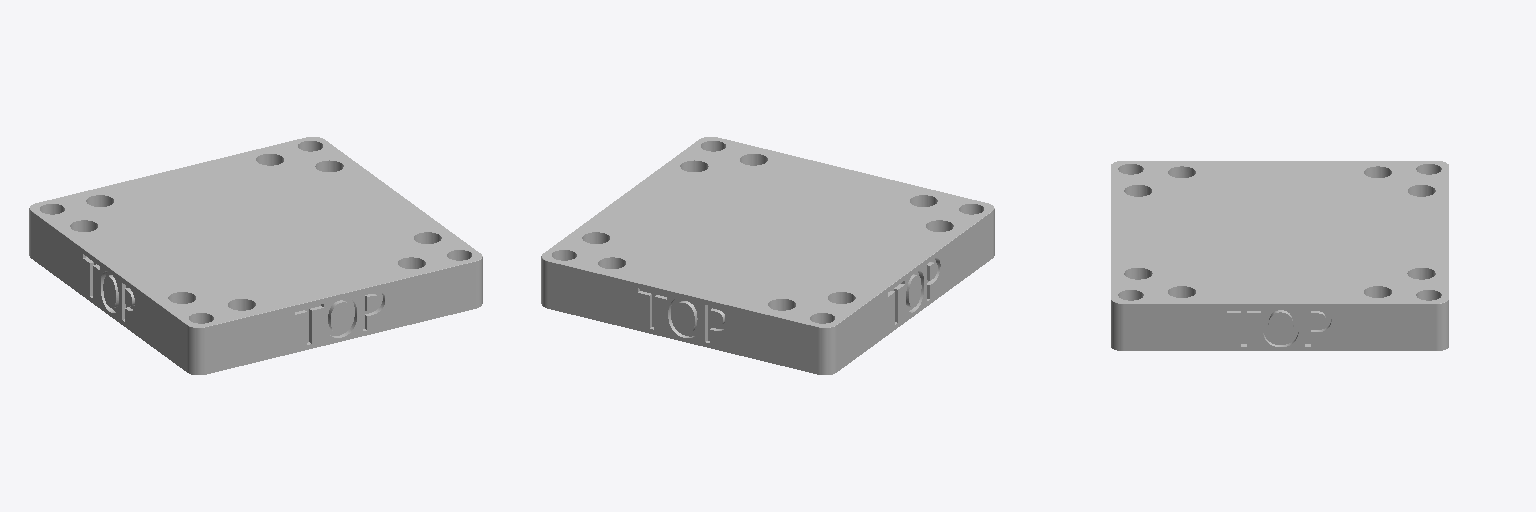
File: V5_Cube 1x1 Top V5 Closed.obj
The picture shows the model from 3 angles: view 1: azimuth 30°, elevation 25°; view 2: azimuth 150°, elevation 25°; view 3: azimuth 270°, elevation 25°; orthographic projection.
Parts seen in each view (by area): view 1: Solid1:2; view 2: Solid1:2; view 3: Solid1:2.
Part boxes in pixels (bbox=[...]): Solid1:2: bbox=[29, 137, 482, 374]; Solid1:2: bbox=[541, 137, 994, 374]; Solid1:2: bbox=[1111, 161, 1448, 350].
Bounding box in the file's own units: 49.8 × 7.7 × 49.8.